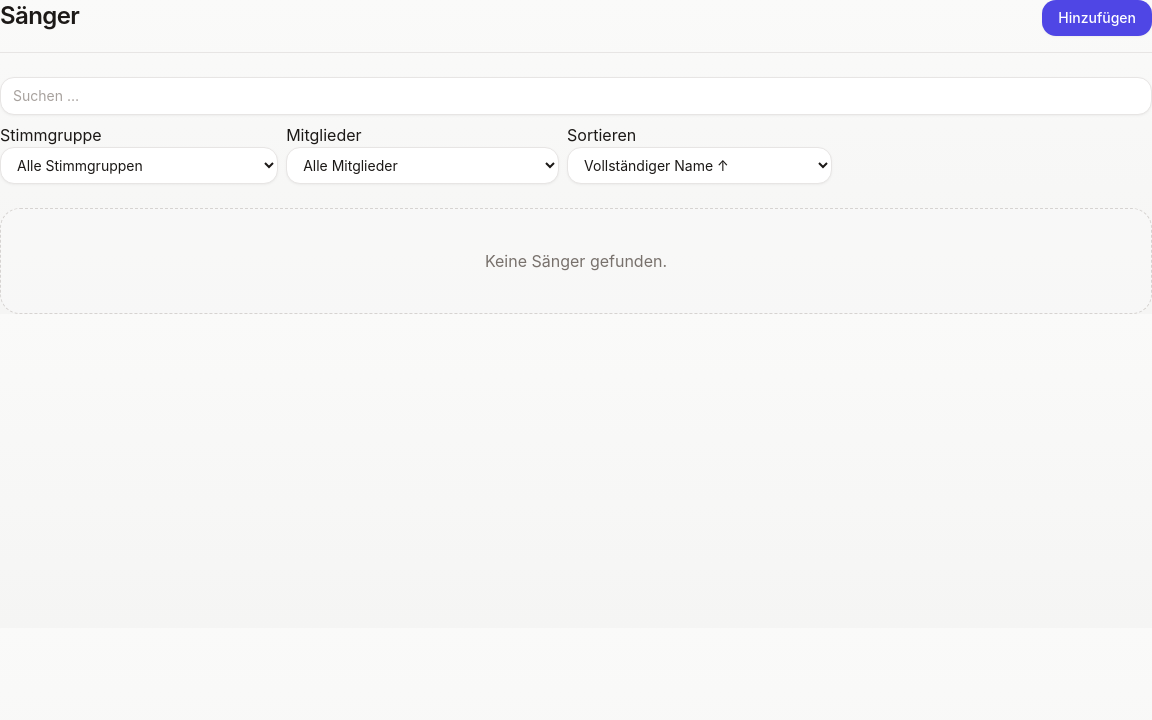
Test: SingerDialog full model › shows all sections and fields
This screenshot has width=1152, height=720.
What coordinates should you click on to do the following:
click the button "Hinzufügen"
I would click on:
 (1097, 18)
Its box is [1042,0,1151,36].
(page scrolled)
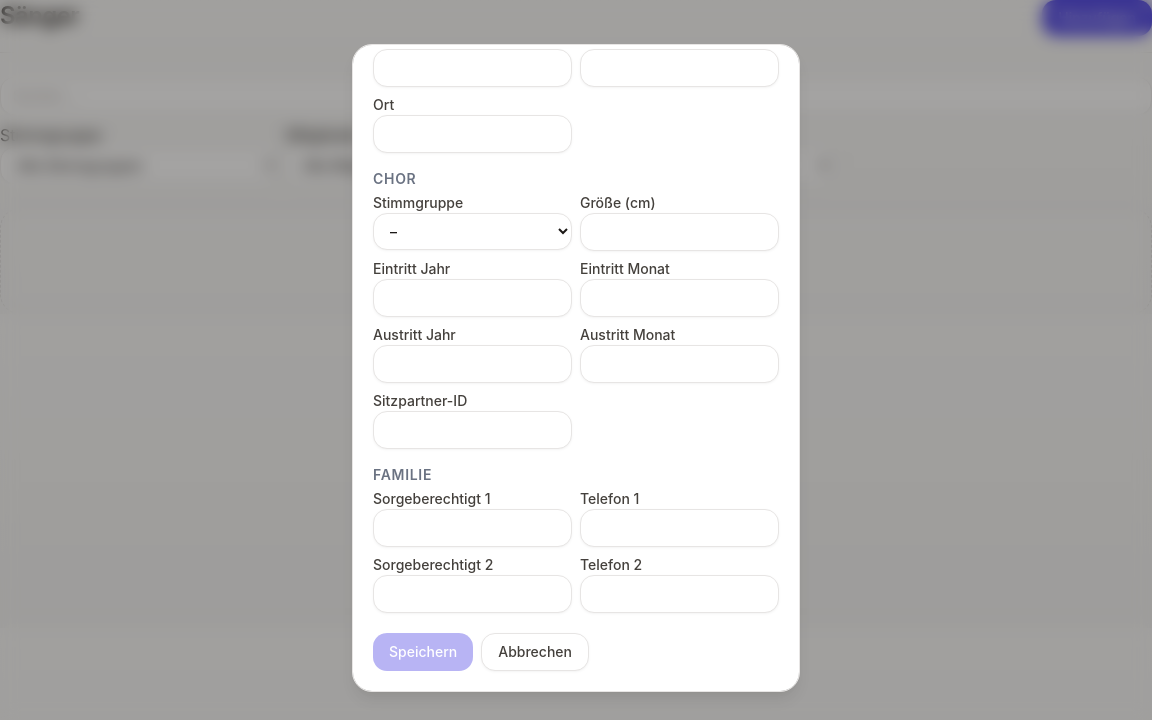
Expected: the field labelled "Straße" is shown, [373,49,572,87]
Expected: the field labelled "PLZ" is shown, [580,49,779,87]
Expected: the field labelled "Ort" is shown, [373,115,572,153]
